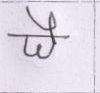ai_matra: (26, 6, 61, 36)
